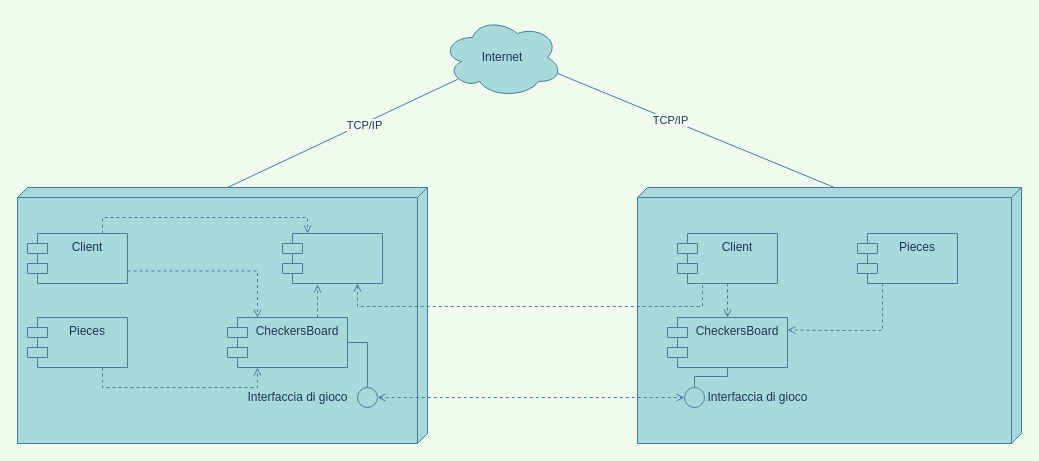
Image size: 1039x461. Some labels were removed from this diagram. The shapes that lost their labels are listed below. From the top down, each one's box as (x1, y1, x2, y2) in pixels, then its label:
(282, 232, 382, 284): Server
(16, 186, 428, 444): Host PC
(636, 186, 1022, 444): Guest PC
